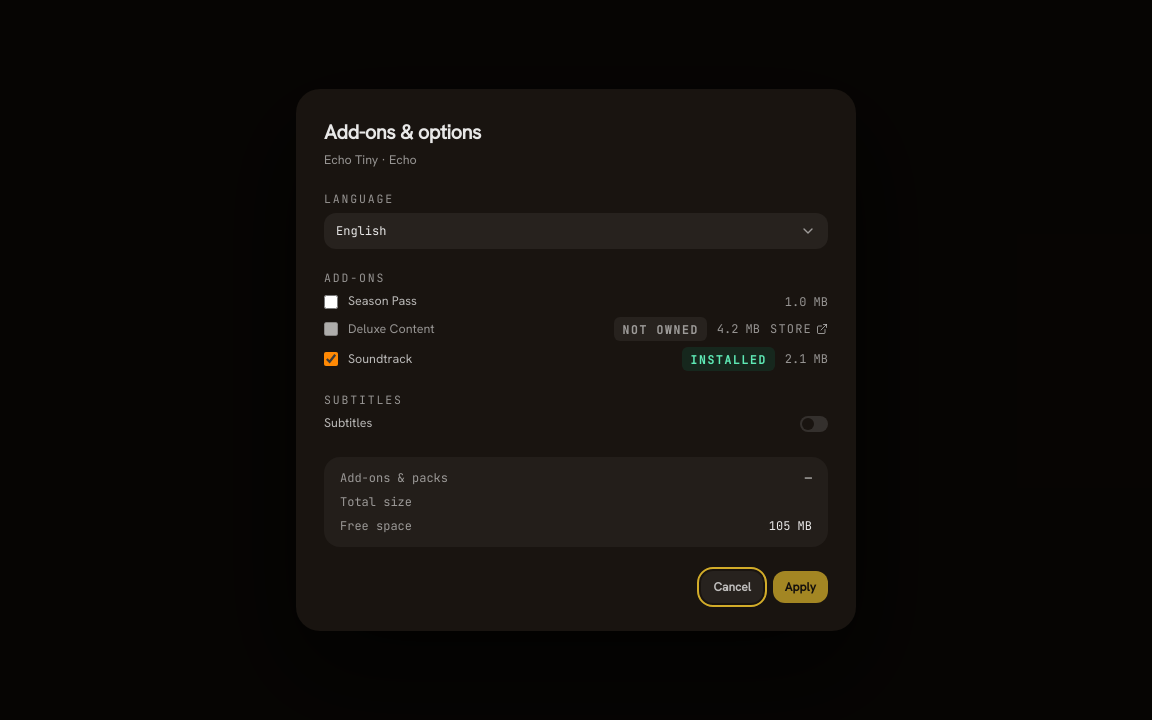
Scenario: InstallOptionsDialog › keeps Apply off until an update changes something
The width and height of the screenshot is (1152, 720).
Expected: the button "Apply" is disabled, [773,571,828,603]
Click the switch named "Subtitles" at (814, 424), box [800,416,828,432]
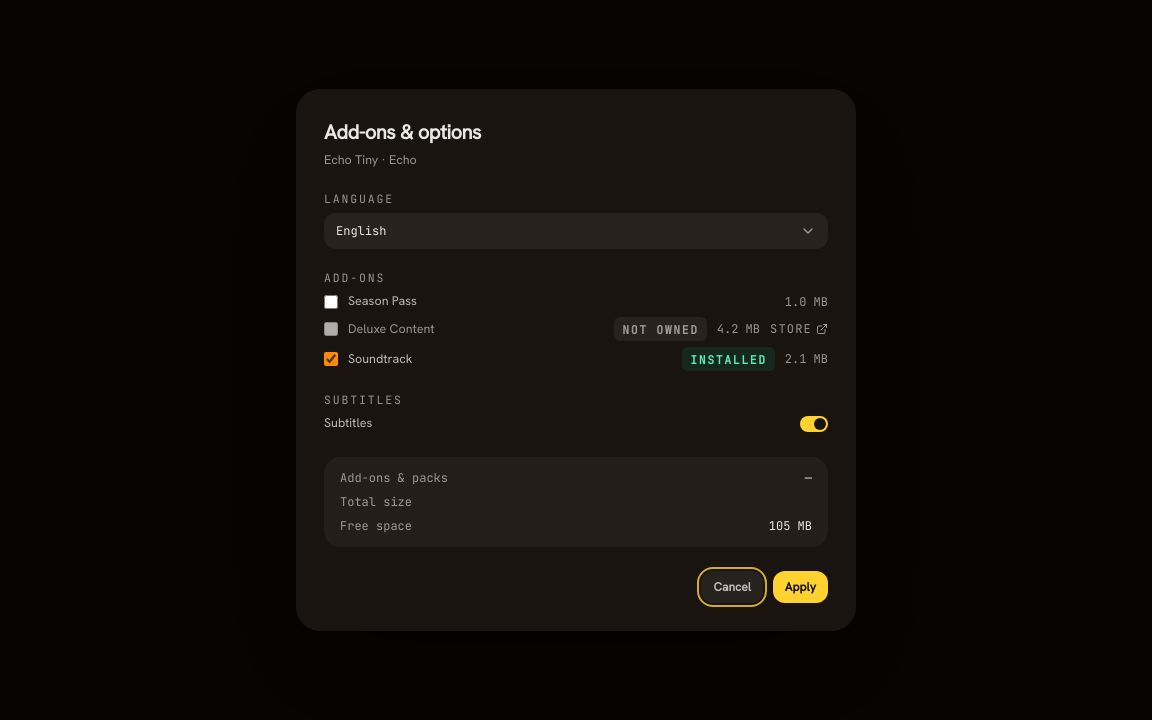
Result: the button "Apply" is enabled at [773,571,828,603]
Click the switch named "Subtitles" at (814, 424), box [800,416,828,432]
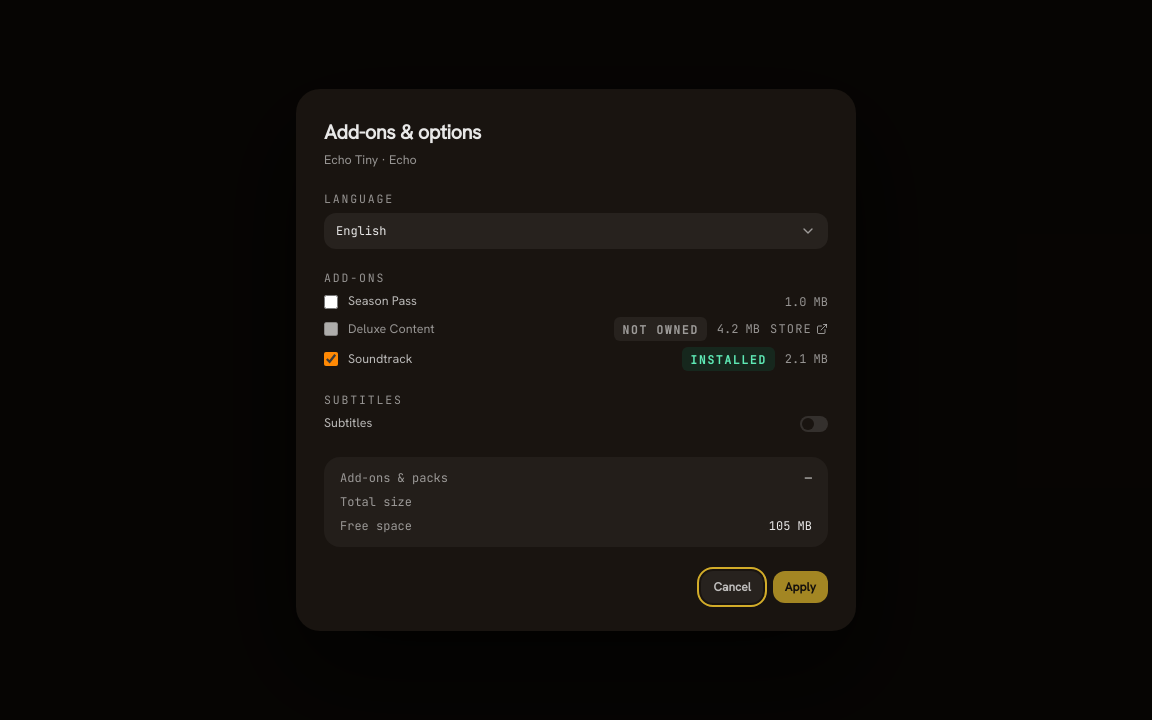
Result: the button "Apply" is disabled at [773,571,828,603]
